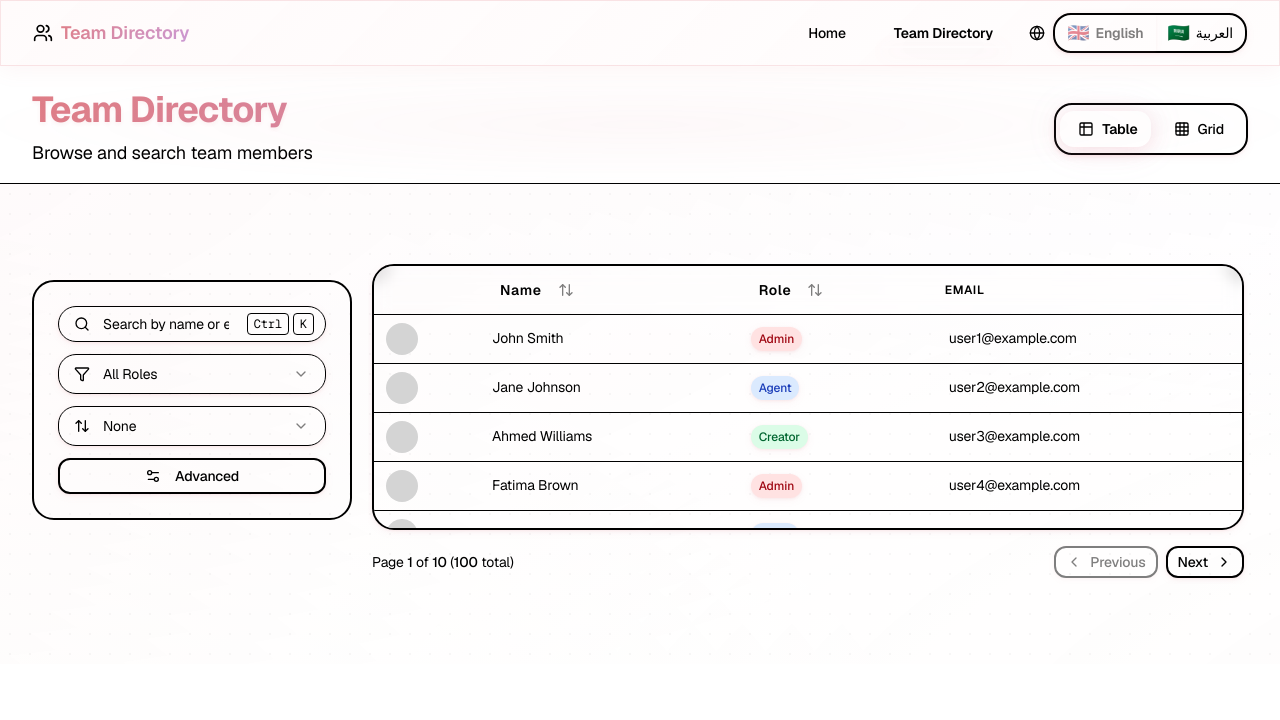
Test: Team Directory - Full User Journey › should search for team members by name
Type "John" into the field with placeholder "Search by name or email..." at x=192, y=324, box [58,306,326,342]
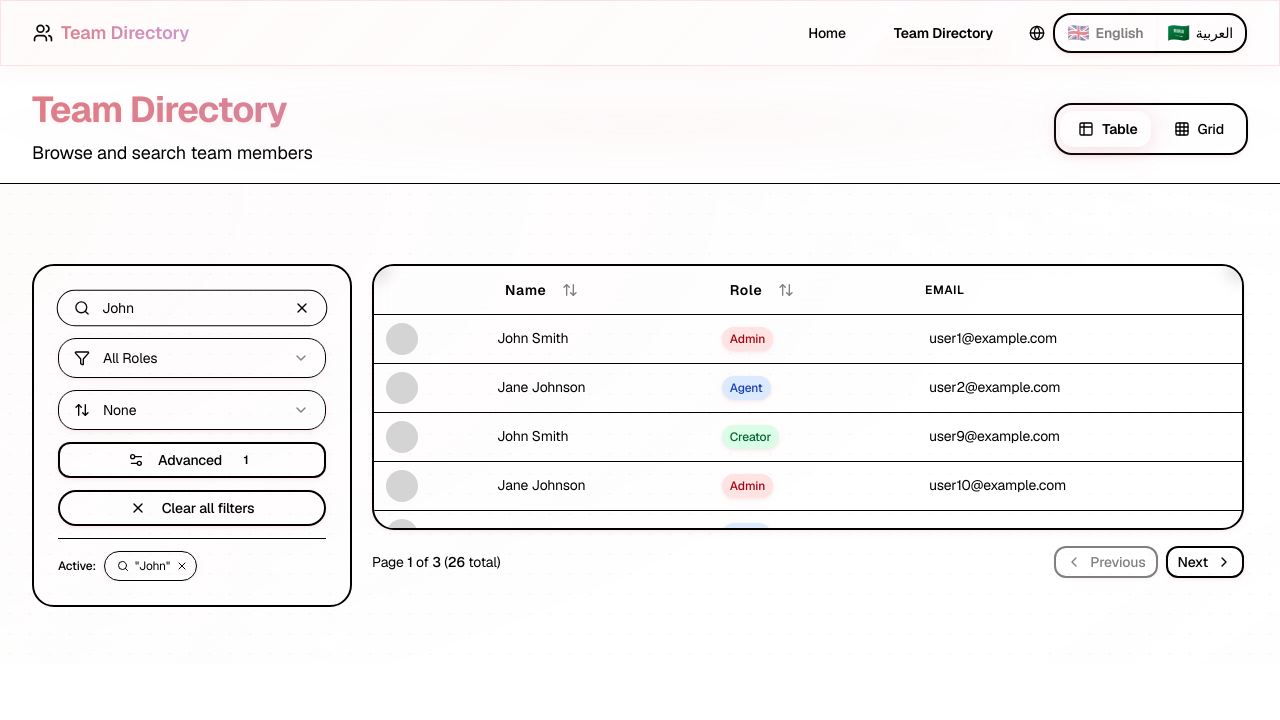
Check: the row "John Smith Admin user1@example.com" is shown, box [374,314,1242,363]
Check: the text "John" is shown, box [139,558,166,574]
